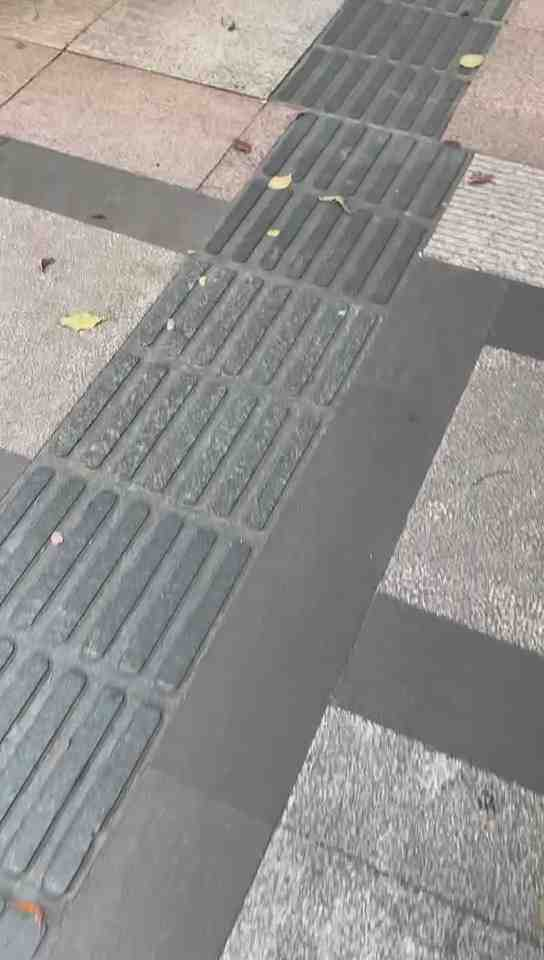leaf: (51, 308, 105, 333), (453, 51, 488, 73), (264, 172, 297, 192)
